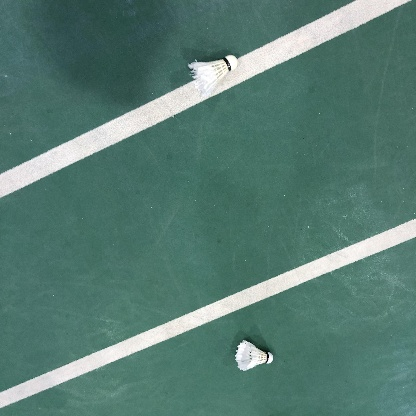ball_single: (188, 55, 238, 97), (235, 340, 273, 371)
